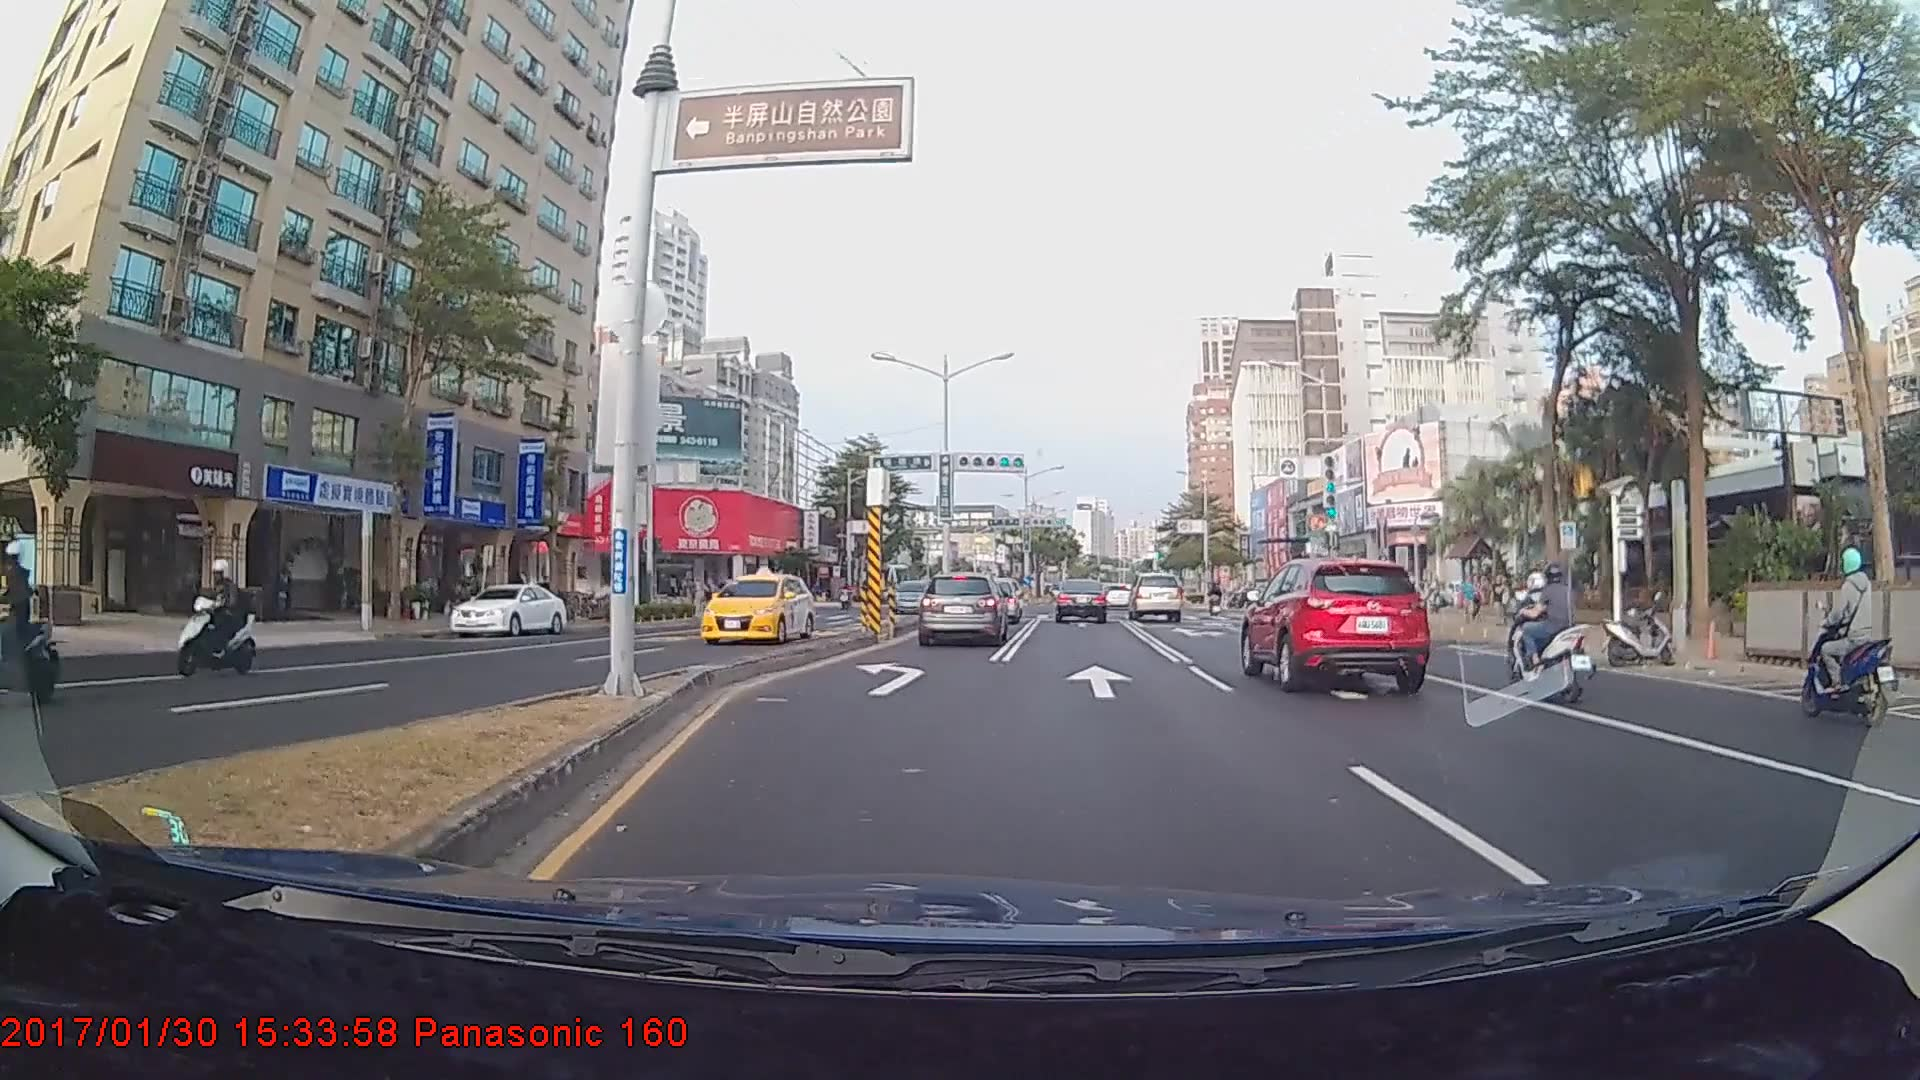rider: (1796, 547, 1905, 733), (1506, 563, 1601, 708), (176, 562, 266, 686), (1, 545, 70, 705)
vehicle: (1243, 551, 1428, 688), (704, 567, 817, 645), (451, 582, 566, 638), (918, 572, 1005, 646), (1128, 573, 1183, 623), (1051, 577, 1106, 625)
